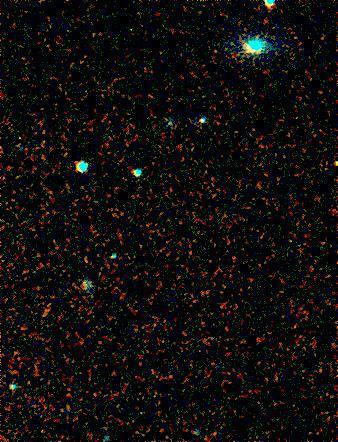star: (180, 419, 210, 442)
